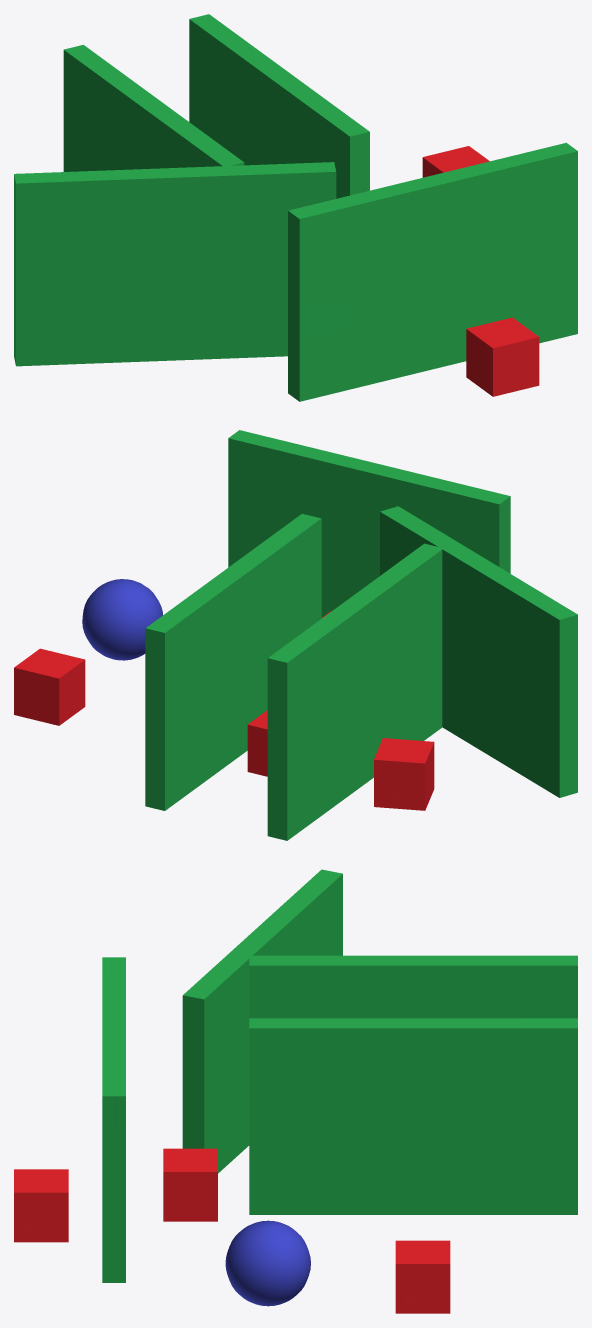
The model's file is BSPTest3.dae.
3 views of the same model, one above another, from view 1: azimuth 30°, elevation 25°; view 2: azimuth 150°, elevation 25°; view 3: azimuth 270°, elevation 25° (orthographic). The views are drawn at different scales.
Parts seen in each view (by area): view 1: pasted__Plane1, Plane3, Plane2, Plane1, Inmovil5, Inmovil3; view 2: Plane1, Plane2, pasted__Plane1, Plane3, Move, Inmovil3, Inmovil1, Inmovil2; view 3: Plane2, Plane1, pasted__Plane1, Plane3, Move, Inmovil3, Inmovil4, Inmovil5.
Part boxes in pixels (<box>): pasted__Plane1: <box>14,162,336,366</box>; Plane3: <box>288,142,577,401</box>; Plane2: <box>189,14,369,198</box>; Plane1: <box>63,44,244,171</box>; Inmovil5: <box>466,317,539,396</box>; Inmovil3: <box>422,146,489,177</box>; Plane1: <box>267,543,443,840</box>; Plane2: <box>145,513,321,810</box>; pasted__Plane1: <box>380,506,577,797</box>; Plane3: <box>228,430,510,617</box>; Move: <box>82,579,162,660</box>; Inmovil3: <box>14,648,85,725</box>; Inmovil1: <box>374,738,434,810</box>; Inmovil2: <box>247,710,267,776</box>; Plane2: <box>249,1018,577,1214</box>; Plane1: <box>249,955,577,1018</box>; pasted__Plane1: <box>182,869,342,1173</box>; Plane3: <box>102,957,125,1282</box>; Move: <box>225,1220,310,1306</box>; Inmovil3: <box>395,1240,450,1313</box>; Inmovil4: <box>163,1148,217,1221</box>; Inmovil5: <box>14,1169,68,1242</box>.
Size of the model in its own units: 22.93 by 7.56 by 20.69.
